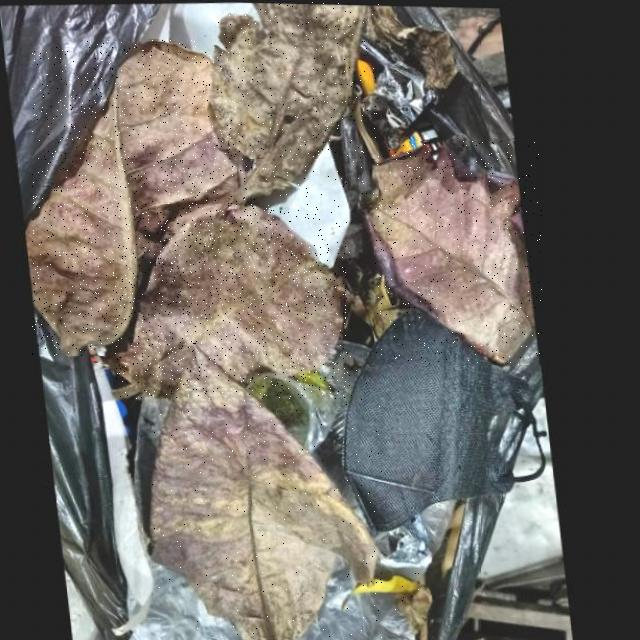biowaste: (32, 40, 246, 356), (151, 355, 382, 640), (116, 204, 350, 399), (375, 141, 542, 364), (217, 2, 379, 201), (343, 573, 421, 610)
